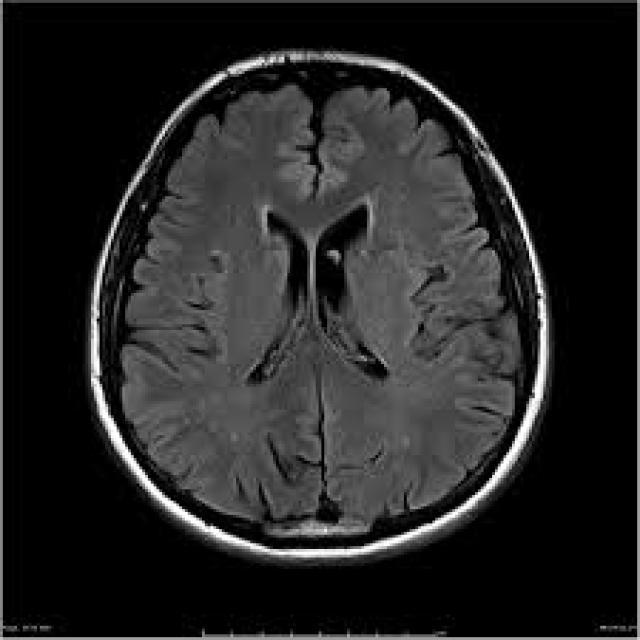notumor: (82, 48, 555, 569)
